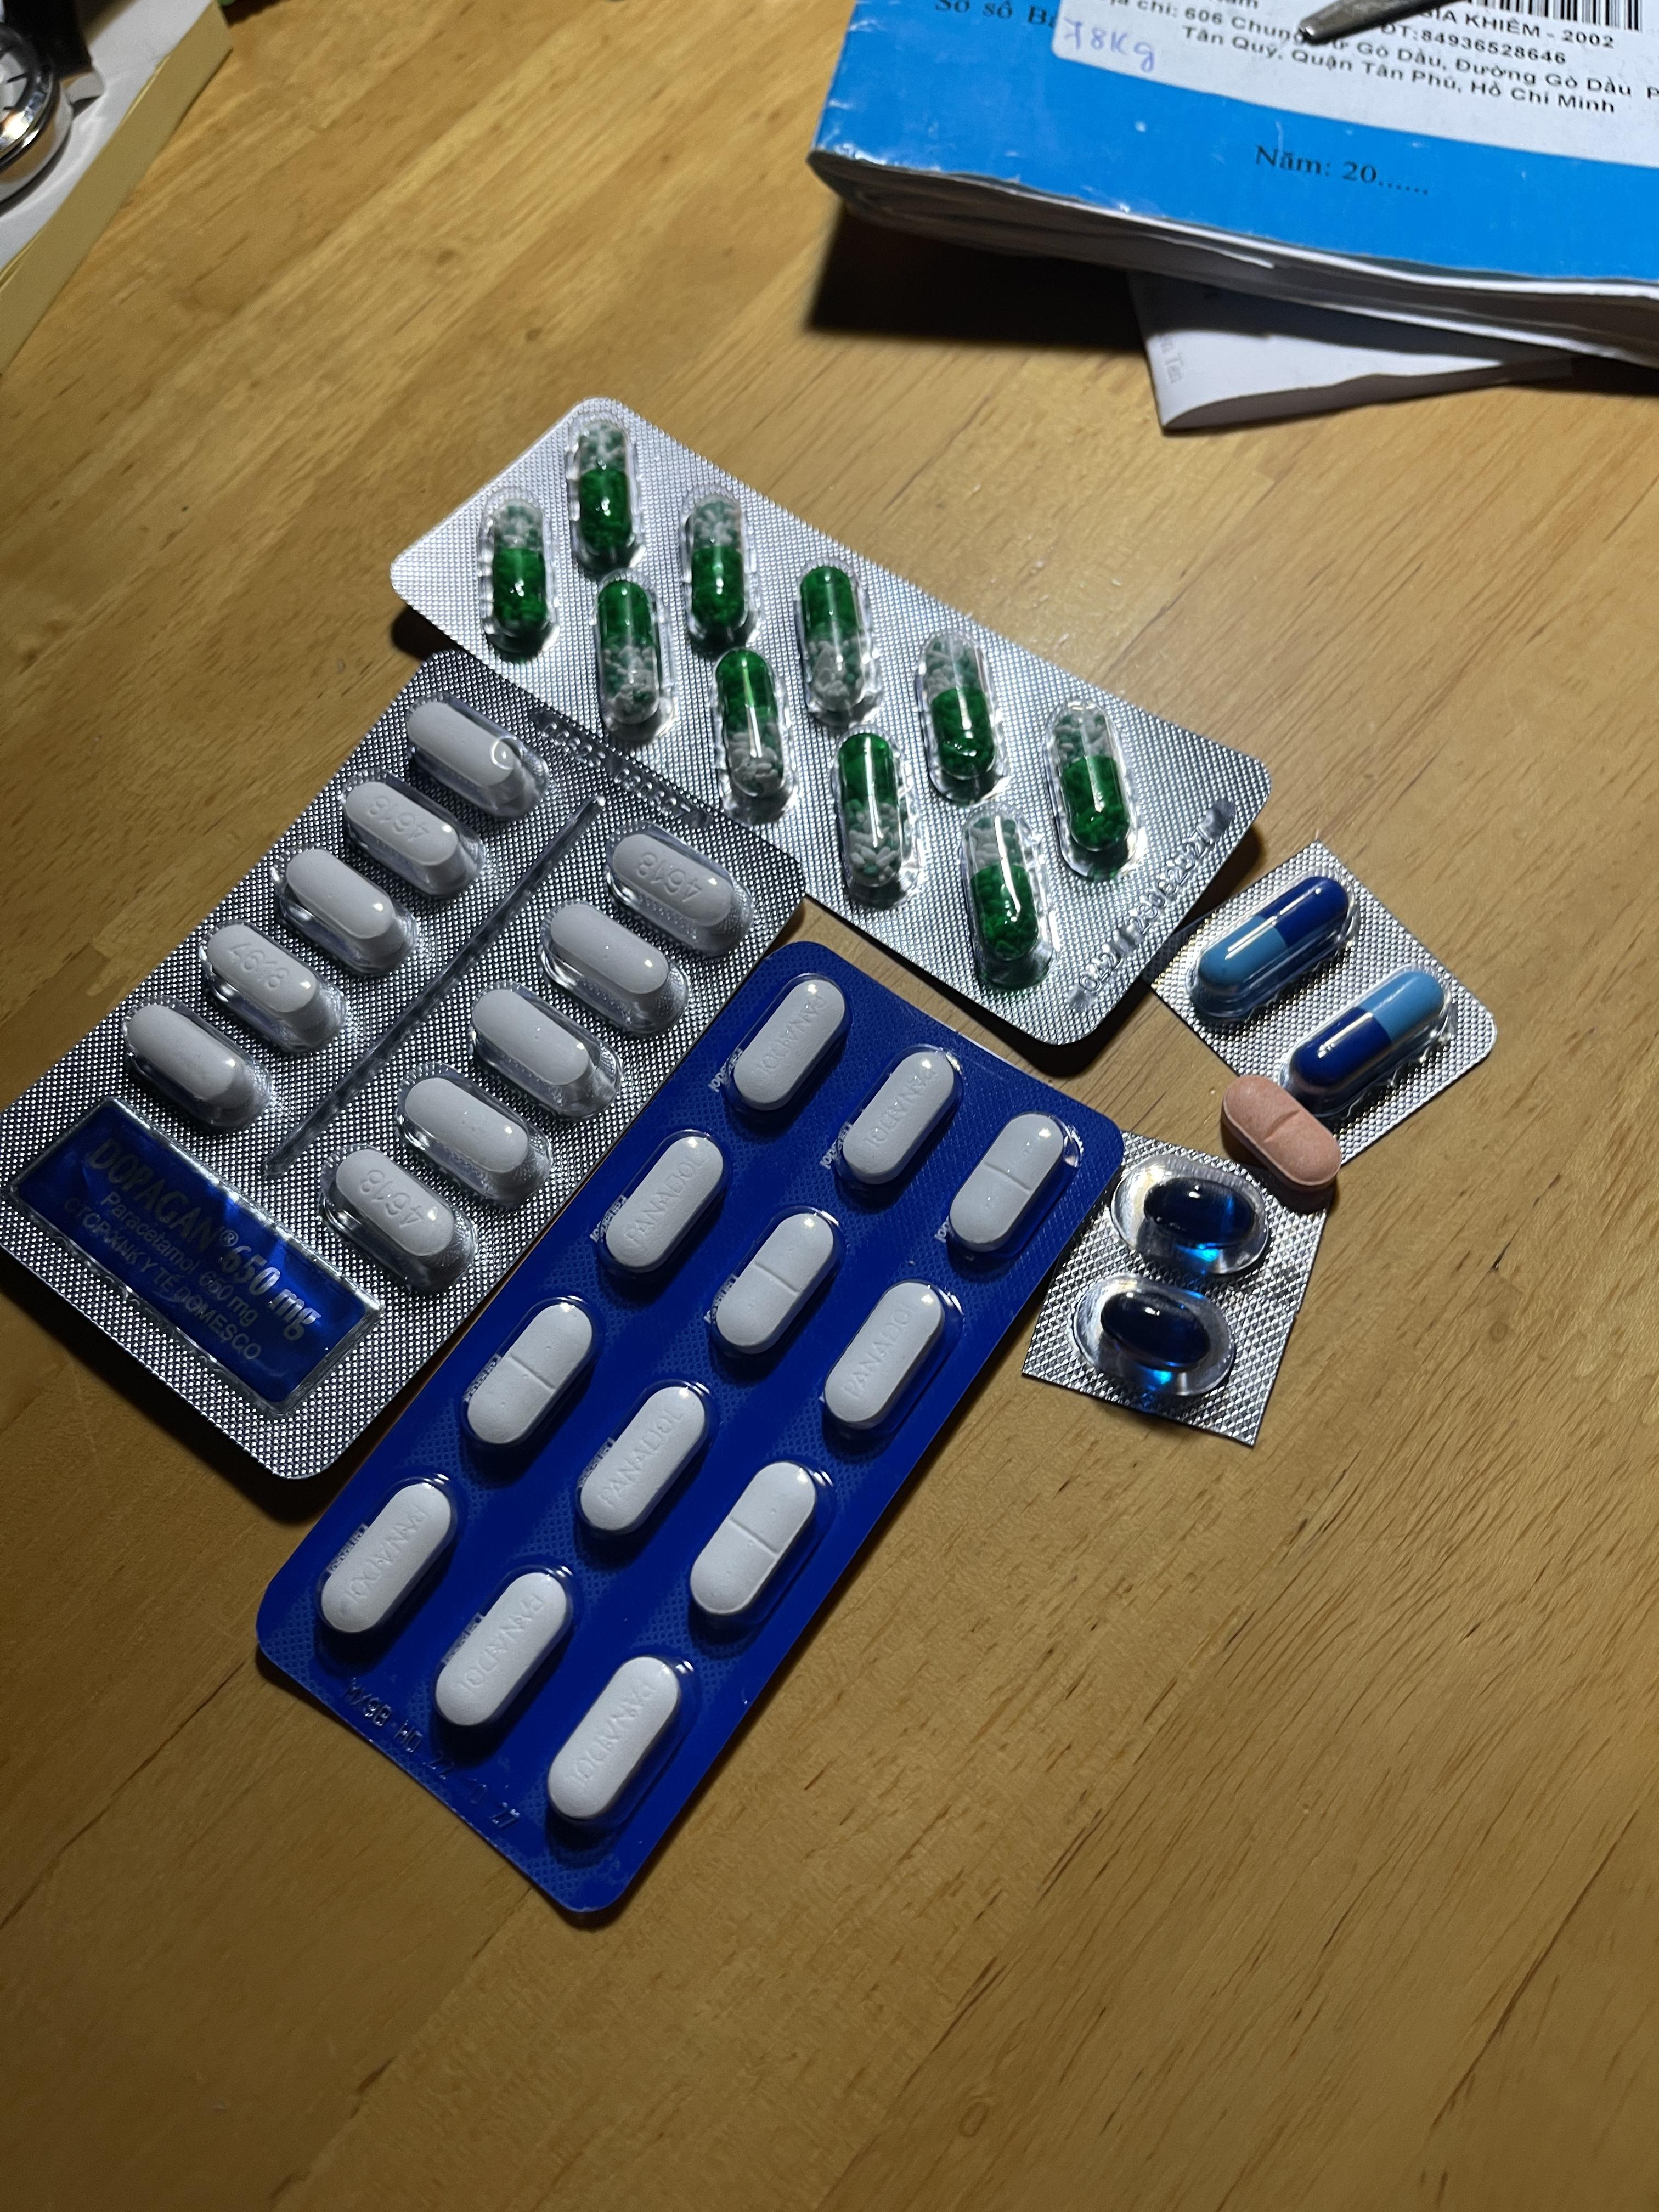Lincomyxin_500mg: (1101, 1289, 1213, 1372), (1141, 1176, 1251, 1254)
Loratadine_10mg: (1222, 1073, 1337, 1195)
Paracetamol_350mg: (549, 1655, 692, 1832), (436, 1568, 575, 1737), (319, 1477, 458, 1642), (690, 1461, 824, 1627), (580, 1379, 714, 1540), (465, 1296, 596, 1456), (709, 1205, 842, 1360), (596, 1132, 730, 1278), (823, 1287, 948, 1439), (946, 1113, 1072, 1258), (835, 1043, 960, 1184), (734, 975, 849, 1104)
Paracetamol_500mg: (321, 1150, 472, 1292), (608, 824, 756, 951), (200, 925, 345, 1054), (465, 986, 613, 1111), (335, 784, 483, 907), (399, 1075, 544, 1198), (540, 900, 681, 1026), (124, 1003, 265, 1123), (406, 700, 544, 819), (284, 846, 415, 965)
Paracetamol_650mg: (962, 810, 1054, 989), (917, 625, 1000, 794), (1049, 705, 1131, 860), (481, 495, 554, 658), (835, 730, 906, 890), (566, 415, 638, 573), (714, 648, 784, 803), (594, 577, 662, 732), (798, 566, 868, 711), (685, 502, 751, 651)
pill: (1284, 970, 1446, 1108), (1202, 878, 1349, 991)
